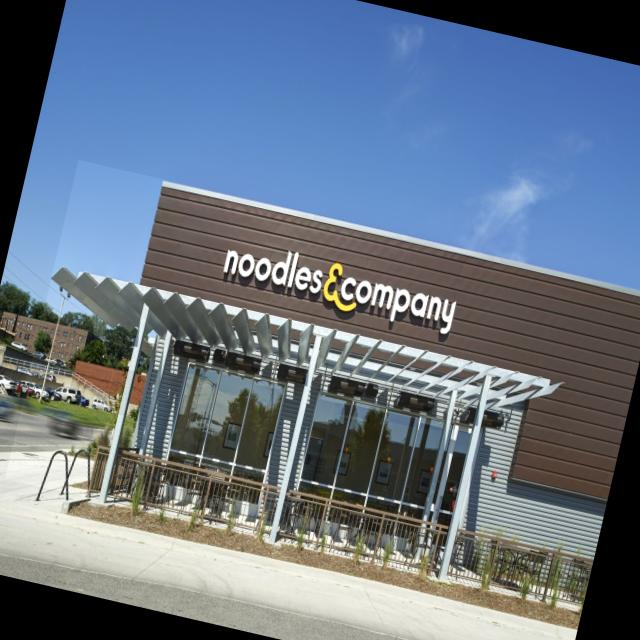House: (4, 159, 640, 611), (0, 307, 106, 370), (66, 357, 146, 418)
